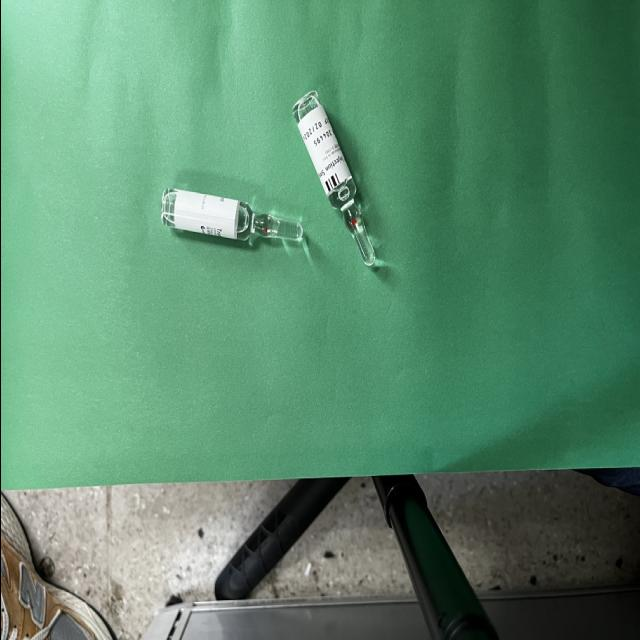Ampoules: (292, 91, 376, 267), (160, 189, 304, 243)
